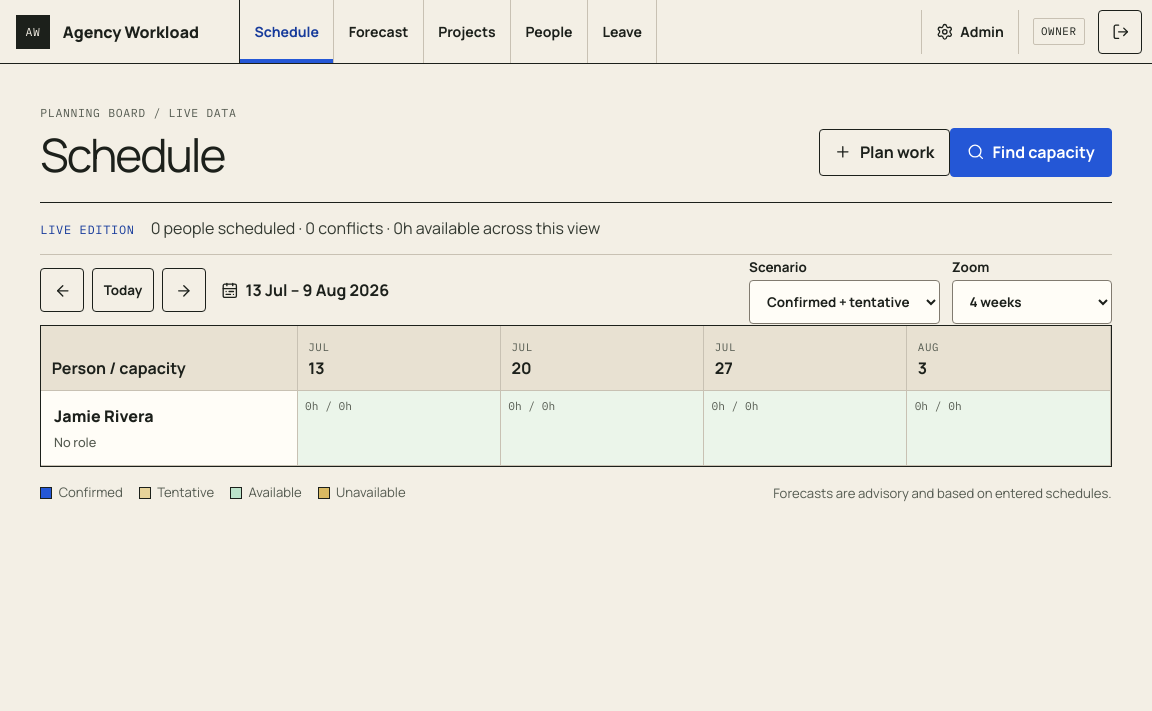
Agency Workload app routes › uses backend-unsafe results for split-allocation advice without automatic save
Click the button "Find capacity" at x=1031, y=152, box [950,128,1112,177]
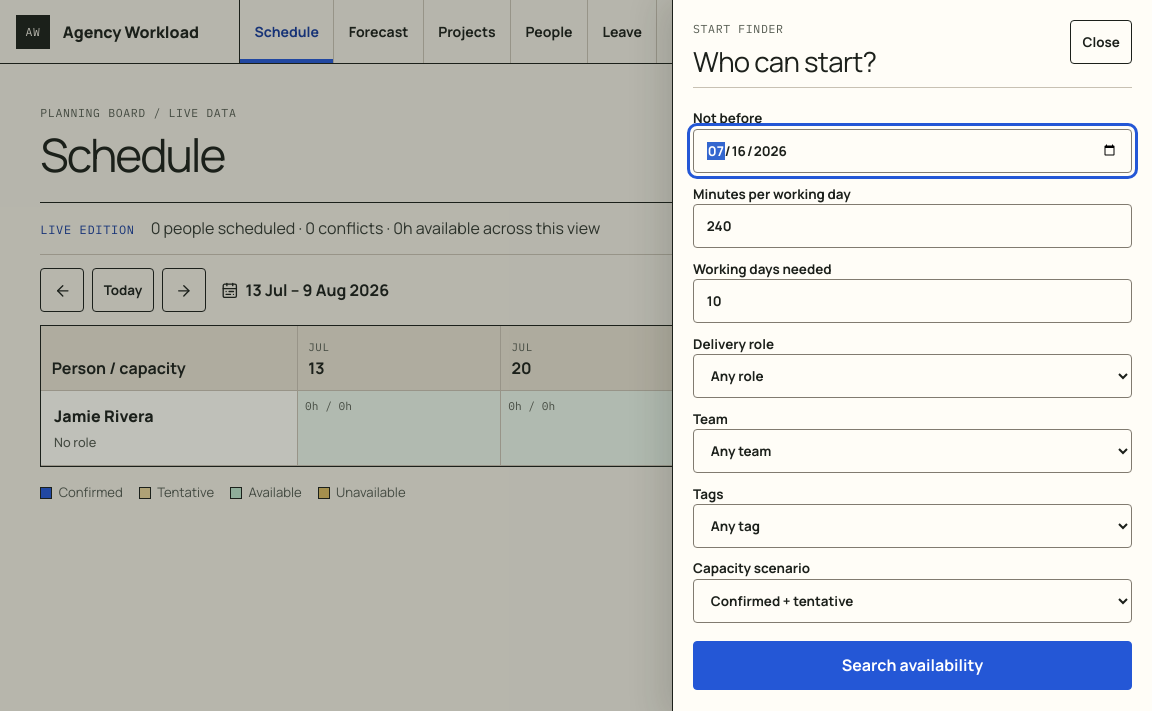
Click the button "Search availability" at x=912, y=665, box [693,641,1132,690]
(page scrolled)
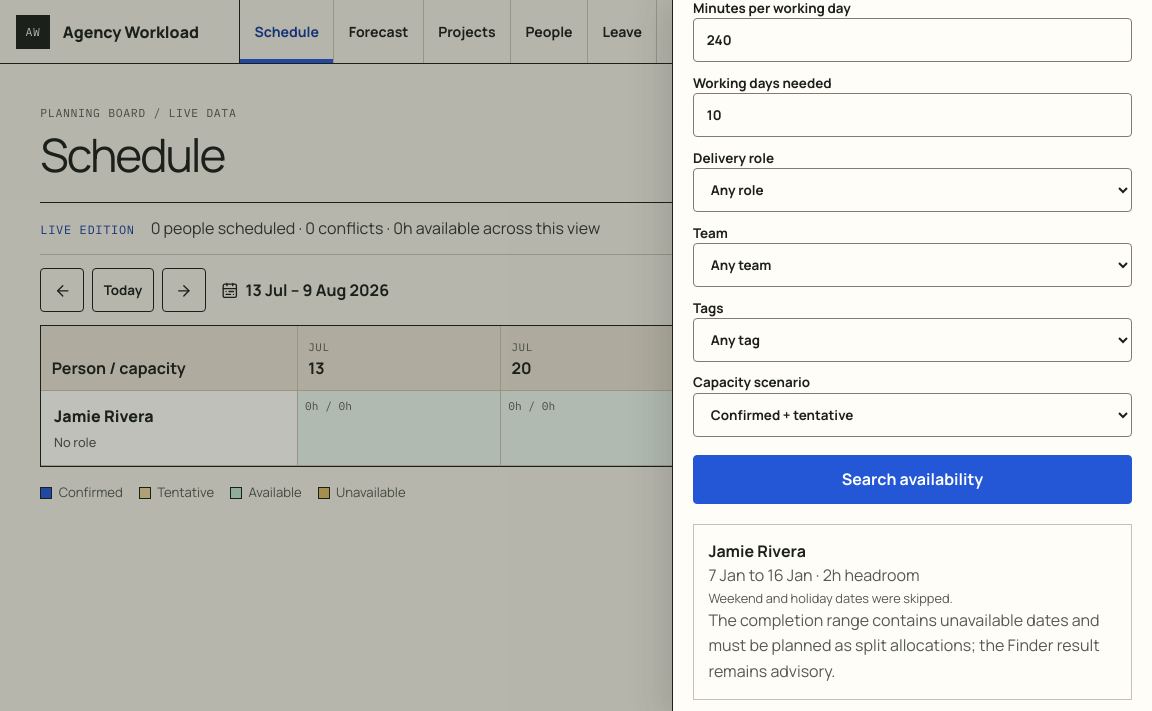
expect the text "Weekend and holiday dates were skipped." is shown: met, box [708,589,953,607]
expect the text "finder result remains advisory" is shown: met, box [708,609,1100,682]
